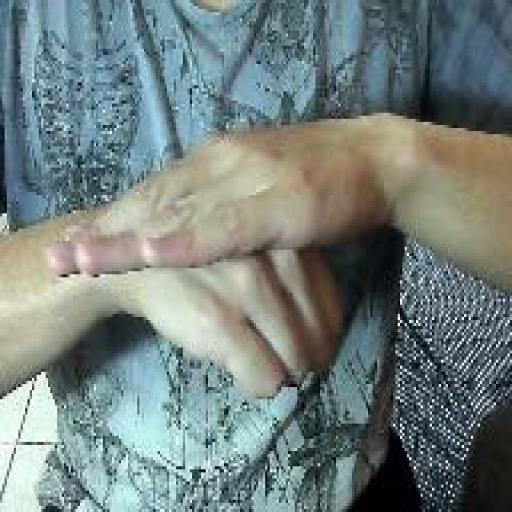Inu -dog-: (43, 123, 350, 407)
